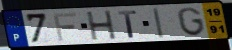7: (25, 12, 49, 45)
F: (52, 12, 79, 43)
G: (176, 6, 207, 37)
H: (85, 9, 119, 42)
I: (151, 7, 166, 40)
T: (117, 10, 139, 39)
